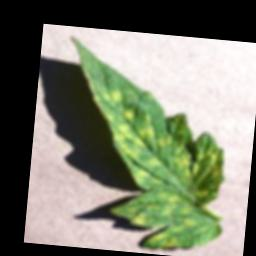Leaf_Mold: (51, 36, 236, 254)
